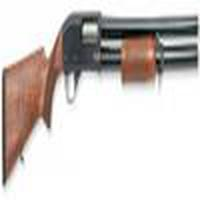gun: (1, 12, 200, 178)
